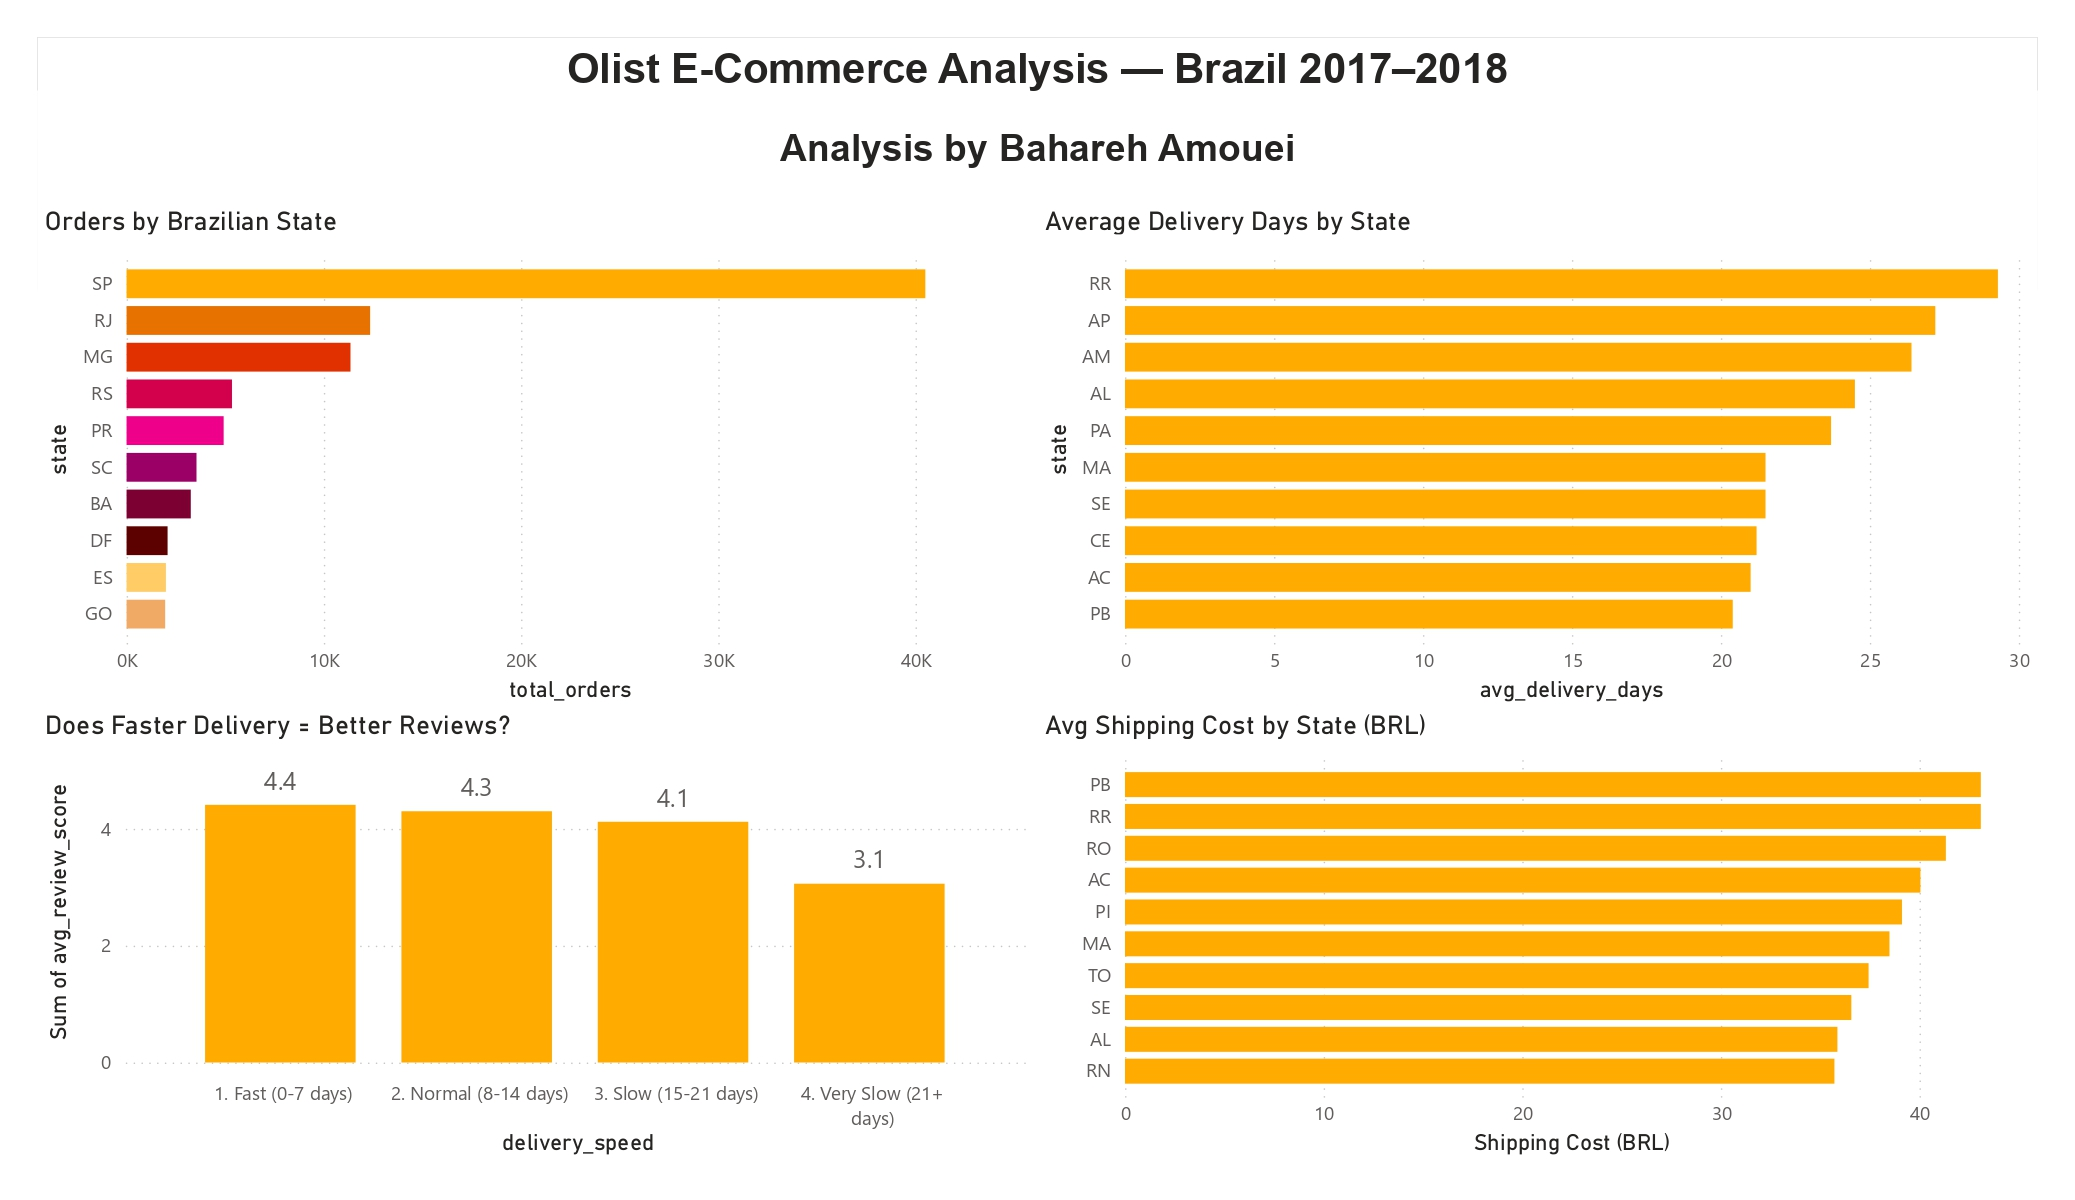

This screenshot's page, from the dashboard's own definition file:
{"tool":"powerbi","page":{"name":"Delivery & Operations","canvas":[1280,720],"ordinal":1},"visuals":[{"type":"clusteredBarChart","title":"Avg Shipping Cost by State (BRL)","fields":{"Category":["results_freight_by_state.state"],"Y":["Sum(results_freight_by_state.avg_freight_cost)"]},"box":[640,430,640,290],"z":0},{"type":"clusteredColumnChart","title":"Does Faster Delivery = Better Reviews?","fields":{"Y":["Sum(results_reviews_vs_delivery.avg_review_score)"],"Category":["results_reviews_vs_delivery.delivery_speed"]},"box":[0,430,640,290],"z":1000},{"type":"barChart","title":"Orders by Brazilian State","fields":{"Series":["results_by_state.state"],"Category":["results_by_state.state"],"Y":["Sum(results_by_state.total_orders)"]},"box":[0,106.7,640,323.3],"z":2000},{"type":"clusteredBarChart","title":"Average Delivery Days by State","fields":{"Category":["results_delivery_by_state.state"],"Y":["Sum(results_delivery_by_state.avg_delivery_days)"]},"box":[640,106.7,640,323.3],"z":3000},{"type":"textbox","box":[0,0,1280,65],"z":4000},{"type":"textbox","box":[0,51.7,1280,55],"z":5000}]}

Visuals, with their boxes on the page's 1280x720 design canvas (x1, y1, x2, y2). These are canvas units, not pixel positions in the 2075x1200 screenshot, which may show the page scaled, cropped or inside an application window:
"Avg Shipping Cost by State (BRL)" clusteredBarChart: bbox=[640, 430, 1280, 720]
"Does Faster Delivery = Better Reviews?" clusteredColumnChart: bbox=[0, 430, 640, 720]
"Orders by Brazilian State" barChart: bbox=[0, 107, 640, 430]
"Average Delivery Days by State" clusteredBarChart: bbox=[640, 107, 1280, 430]
textbox: bbox=[0, 0, 1280, 65]
textbox: bbox=[0, 52, 1280, 107]
